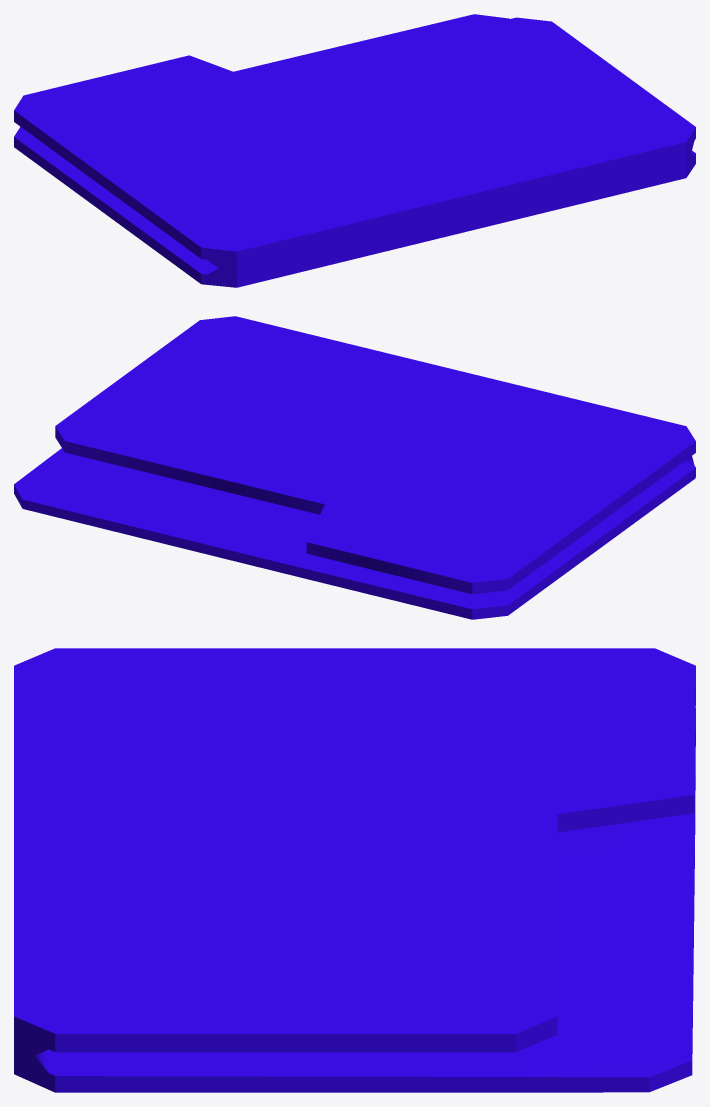
File: office_pack_file_cardboard_1_meshCollider.fbx
The picture shows the model from 3 angles, top to bottom: view 1: azimuth 30°, elevation 25°; view 2: azimuth 150°, elevation 25°; view 3: azimuth 270°, elevation 25°; orthographic projection. The views are drawn at different scales.
Visible parts, largest first — view 1: office_pack_file_cardboard_1_meshCollider; view 2: office_pack_file_cardboard_1_meshCollider; view 3: office_pack_file_cardboard_1_meshCollider.
Boxes of the visible parts, bbox=[...] form: office_pack_file_cardboard_1_meshCollider: bbox=[14, 14, 695, 287]; office_pack_file_cardboard_1_meshCollider: bbox=[14, 316, 695, 619]; office_pack_file_cardboard_1_meshCollider: bbox=[14, 648, 695, 1092].
Size of the model in its own units: 22.03 by 1.57 by 16.46.
